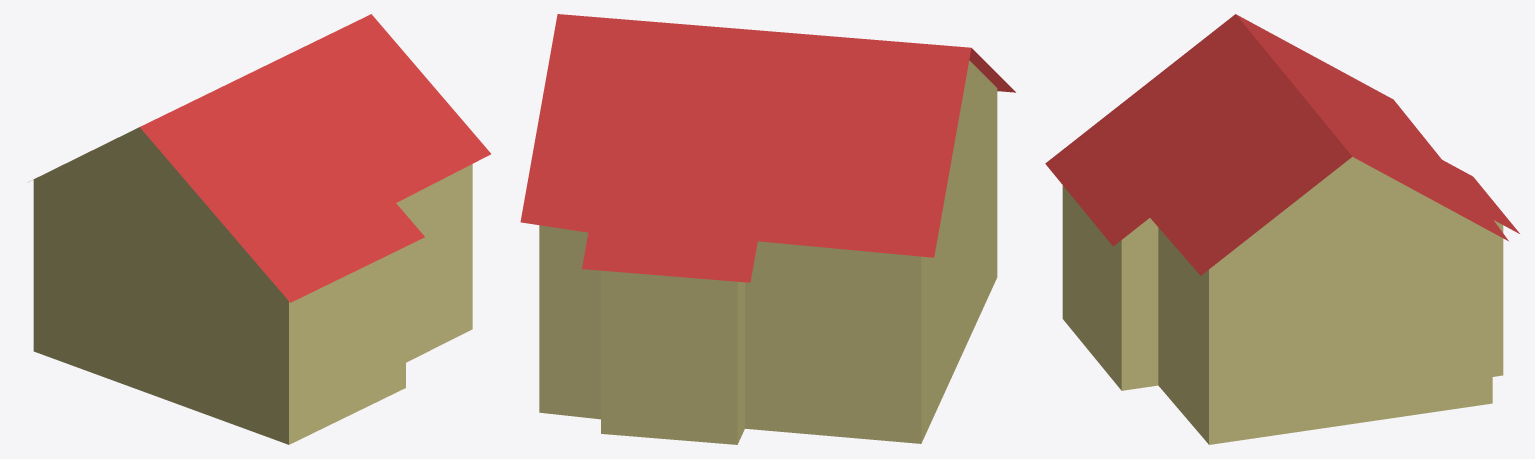
The picture shows the model from 3 angles, left to right: view 1: azimuth 30°, elevation 25°; view 2: azimuth 150°, elevation 25°; view 3: azimuth 270°, elevation 25°; orthographic projection. The views are drawn at different scales.
Size of the model in its own units: 16.16 by 17.28 by 10.96.
